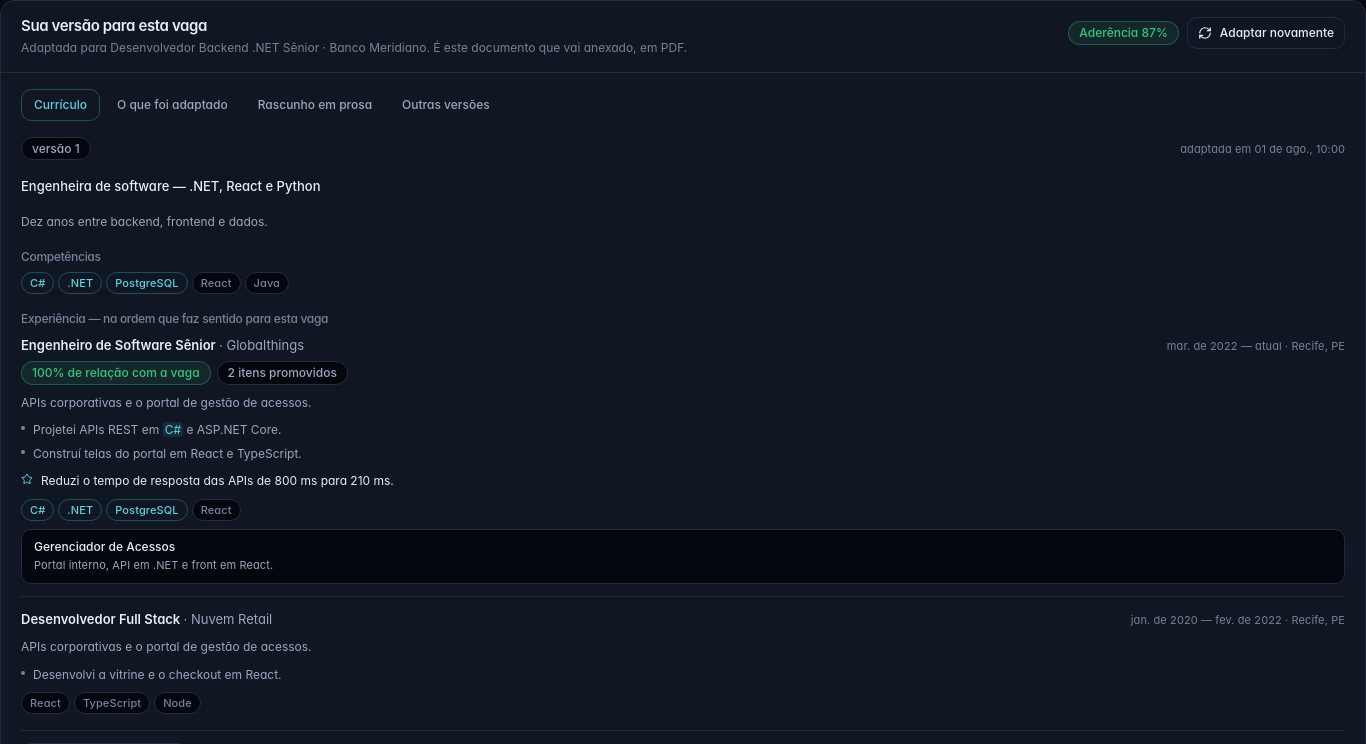
ApplicationResumePanel change report › reports each change once, and not once per surface that could show it
Expected: the text "versão 1" is shown, [21,137,91,160]
What coordinates should you click on to do the following:
click the tab "O que foi adaptado"
I would click on:
 (172, 105)
Its box is [104,89,241,121].
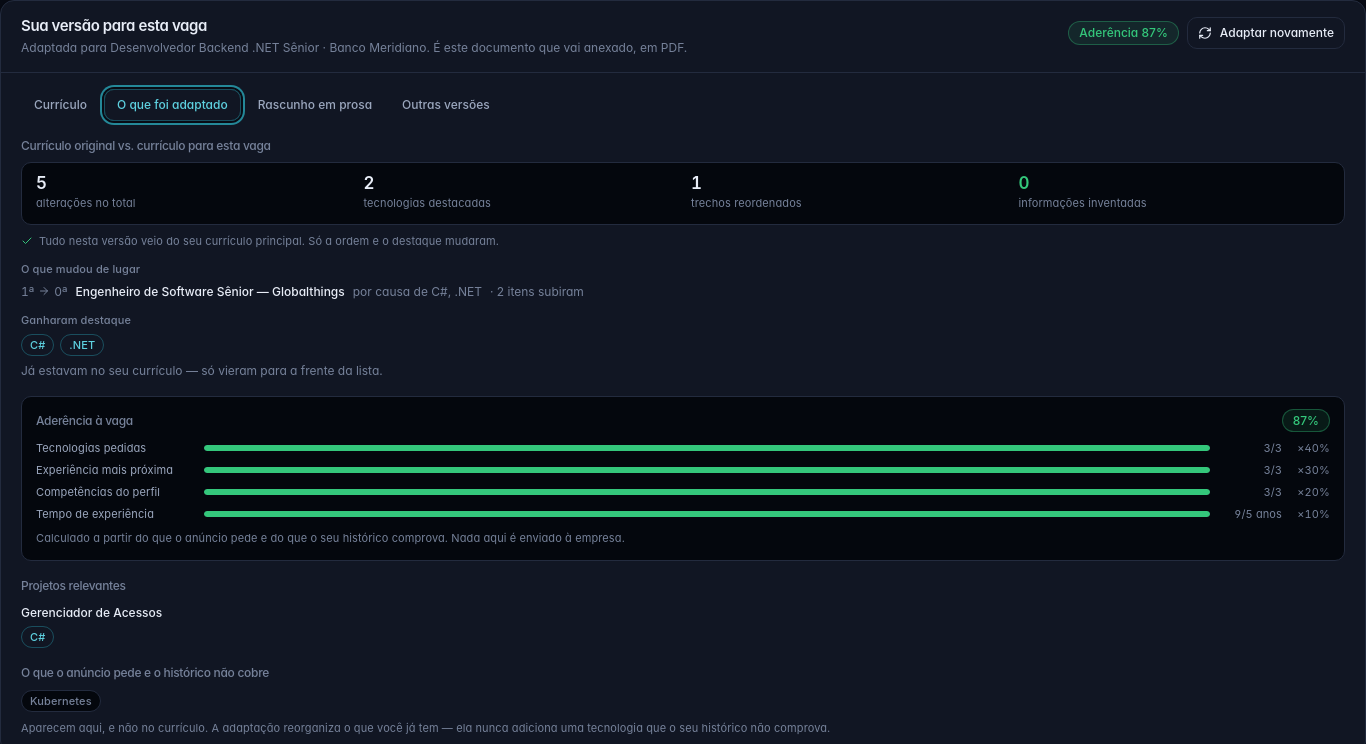
Expected: the heading "Projetos relevantes" is shown, [21,578,126,593]
